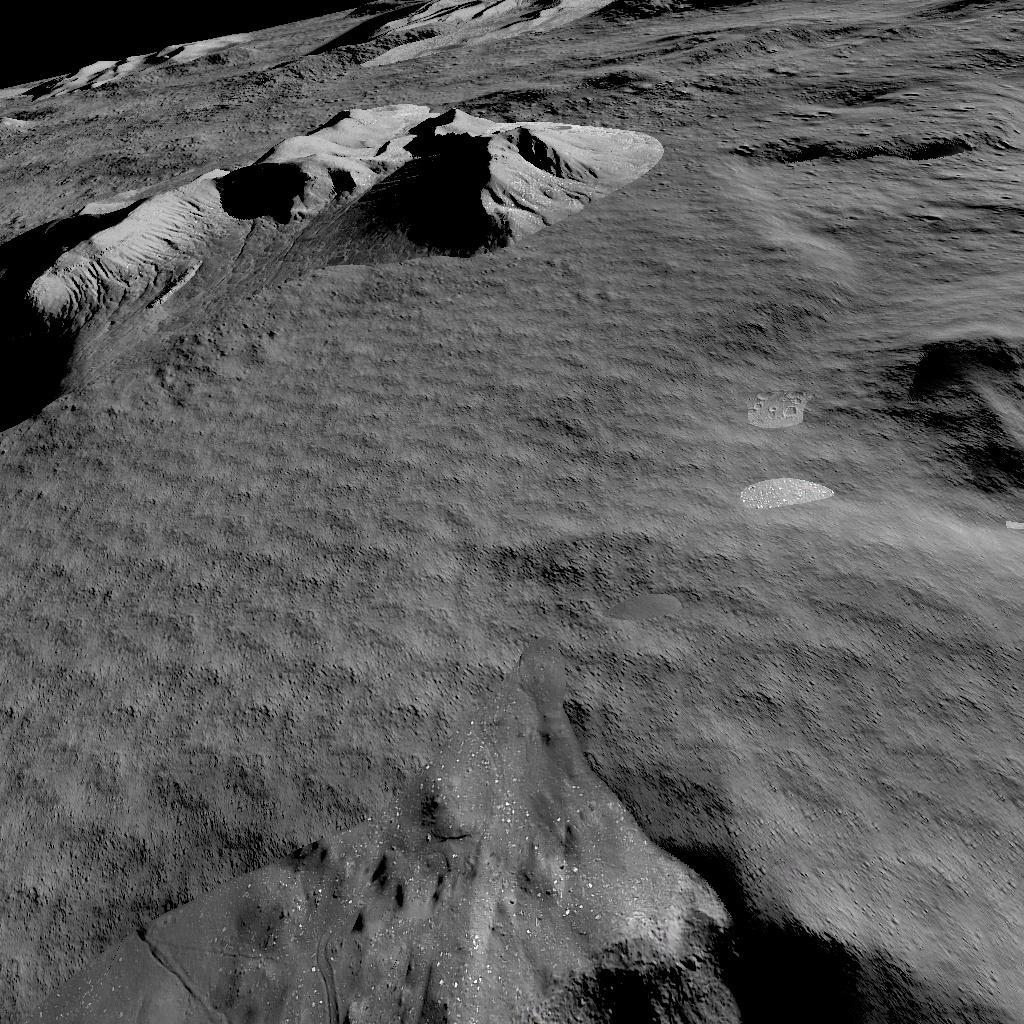Boulders: (0, 105, 663, 430)
Crater: (0, 768, 1024, 1024), (901, 322, 1024, 516)
Plan surface: (0, 442, 888, 756)
